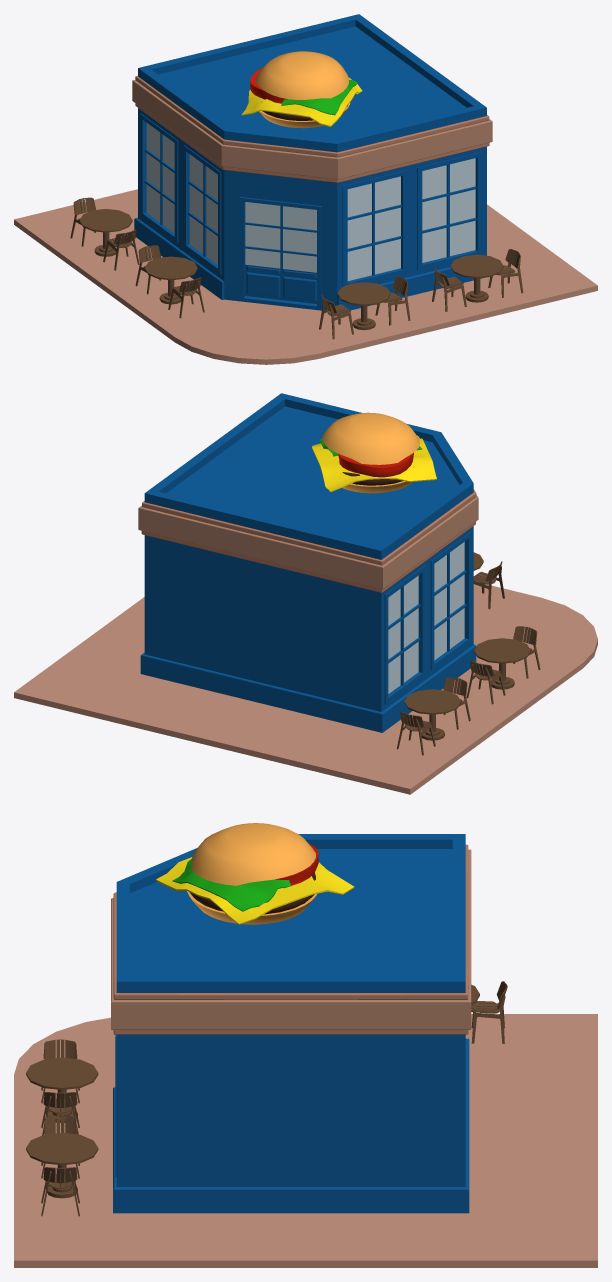
Rendered from commercial-building-fastfood-shop.fbx.
The picture shows the model from 3 angles, top to bottom: view 1: azimuth 30°, elevation 25°; view 2: azimuth 150°, elevation 25°; view 3: azimuth 270°, elevation 25°; orthographic projection. The views are drawn at different scales.
Visible parts, largest first — view 1: commercial-building-fastfood-shop, fastfood-shop-hamburger; view 2: commercial-building-fastfood-shop, fastfood-shop-hamburger; view 3: commercial-building-fastfood-shop, fastfood-shop-hamburger.
Part boxes in pixels (x1=…): commercial-building-fastfood-shop: x1=14, y1=14, x2=597, y2=364; fastfood-shop-hamburger: x1=241, y1=51, x2=362, y2=128; commercial-building-fastfood-shop: x1=14, y1=393, x2=597, y2=794; fastfood-shop-hamburger: x1=312, y1=412, x2=436, y2=493; commercial-building-fastfood-shop: x1=14, y1=834, x2=597, y2=1267; fastfood-shop-hamburger: x1=156, y1=823, x2=354, y2=924.
Size of the model in its own units: 1280 by 717 by 1280.
1 material, 1 textured.
